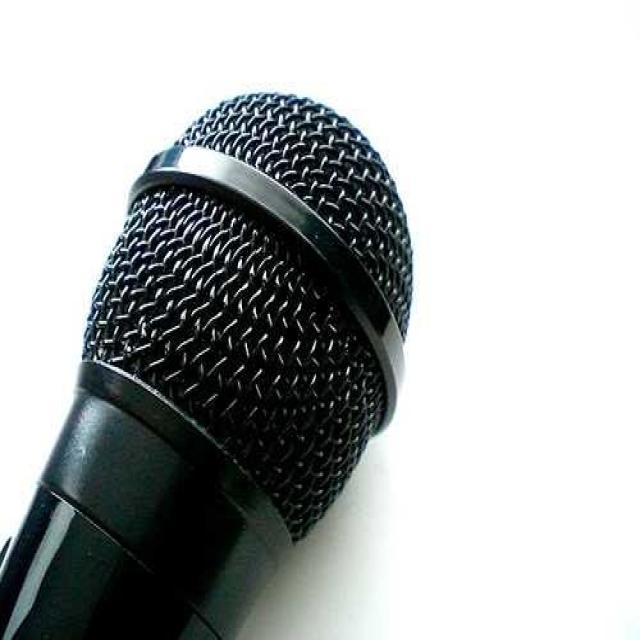microphone: (4, 91, 404, 633)
